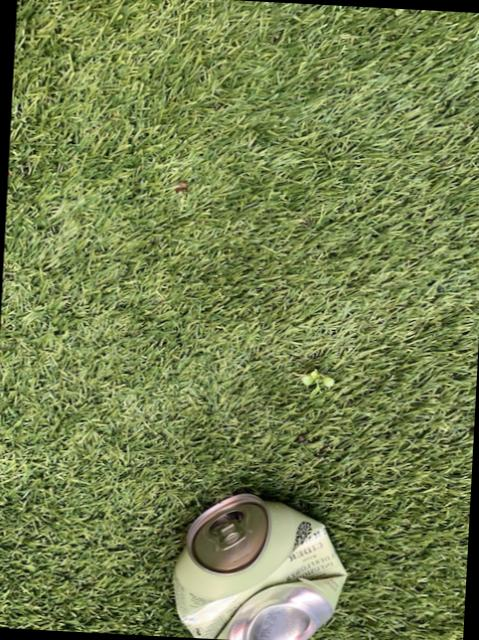metal: (172, 495, 344, 640)
